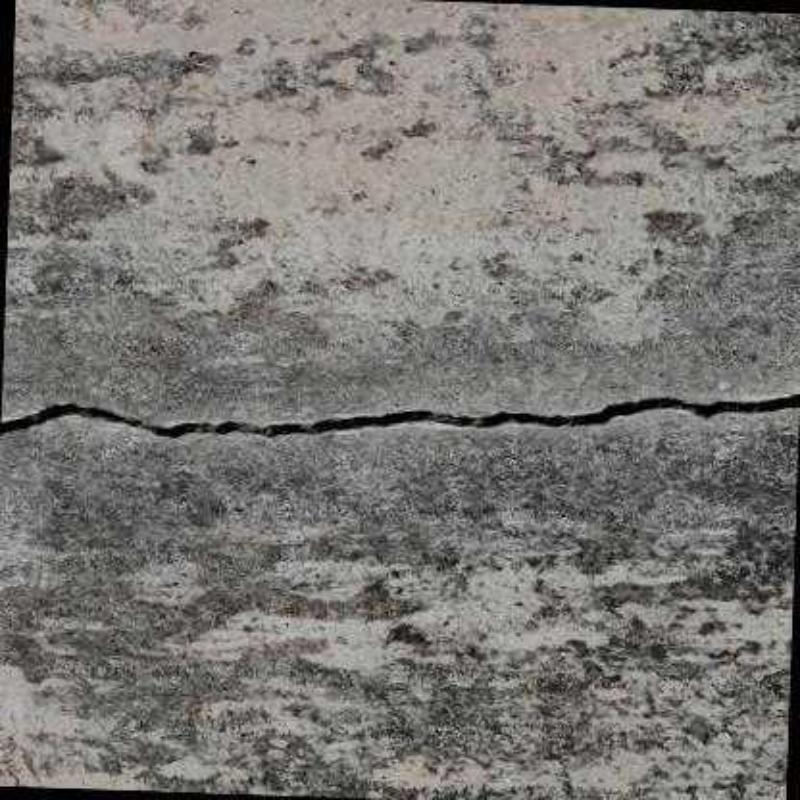pothole: (1, 392, 800, 439)
